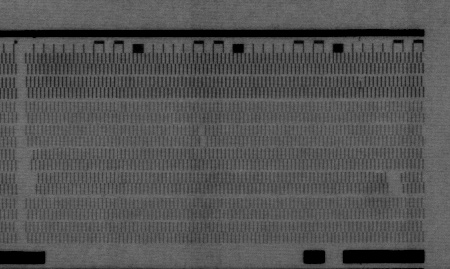Broken hole: (21, 150, 40, 195), (384, 173, 406, 197), (196, 125, 209, 147)
Oblique printing: (356, 76, 368, 90)
